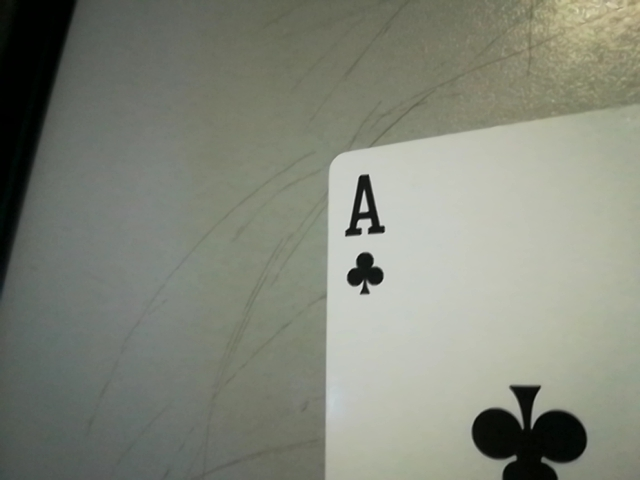mh a: (332, 164, 400, 305)
